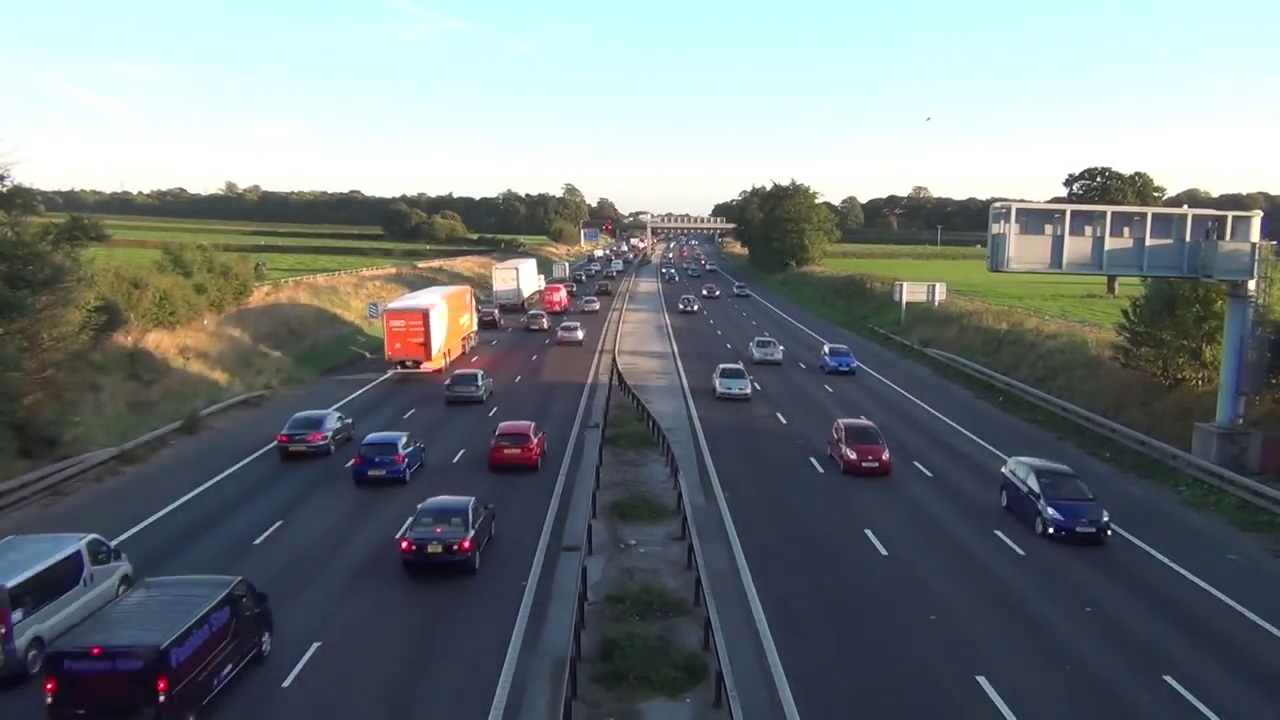bus: (994, 449, 1125, 552), (392, 492, 500, 583), (824, 415, 900, 482), (276, 403, 355, 460), (352, 430, 426, 486), (486, 418, 544, 474), (444, 366, 498, 409), (706, 361, 756, 405), (817, 343, 859, 379), (746, 334, 784, 367), (553, 320, 591, 353), (520, 311, 552, 333), (475, 307, 506, 328), (678, 294, 699, 317), (700, 283, 720, 300), (580, 297, 601, 313), (732, 282, 753, 298), (594, 280, 612, 296), (664, 271, 682, 285), (564, 282, 578, 297), (572, 271, 587, 284), (602, 268, 618, 280), (537, 273, 546, 293), (687, 264, 700, 277), (706, 261, 718, 274), (660, 265, 676, 274), (583, 265, 595, 277), (682, 259, 694, 270), (590, 263, 602, 273)
car: (381, 284, 483, 374), (490, 256, 541, 313), (551, 259, 571, 285)
lorry: (45, 566, 279, 720), (2, 529, 141, 679), (543, 283, 569, 313), (611, 258, 624, 272)
